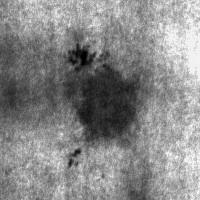patches: (0, 36, 76, 128), (65, 66, 139, 138)
